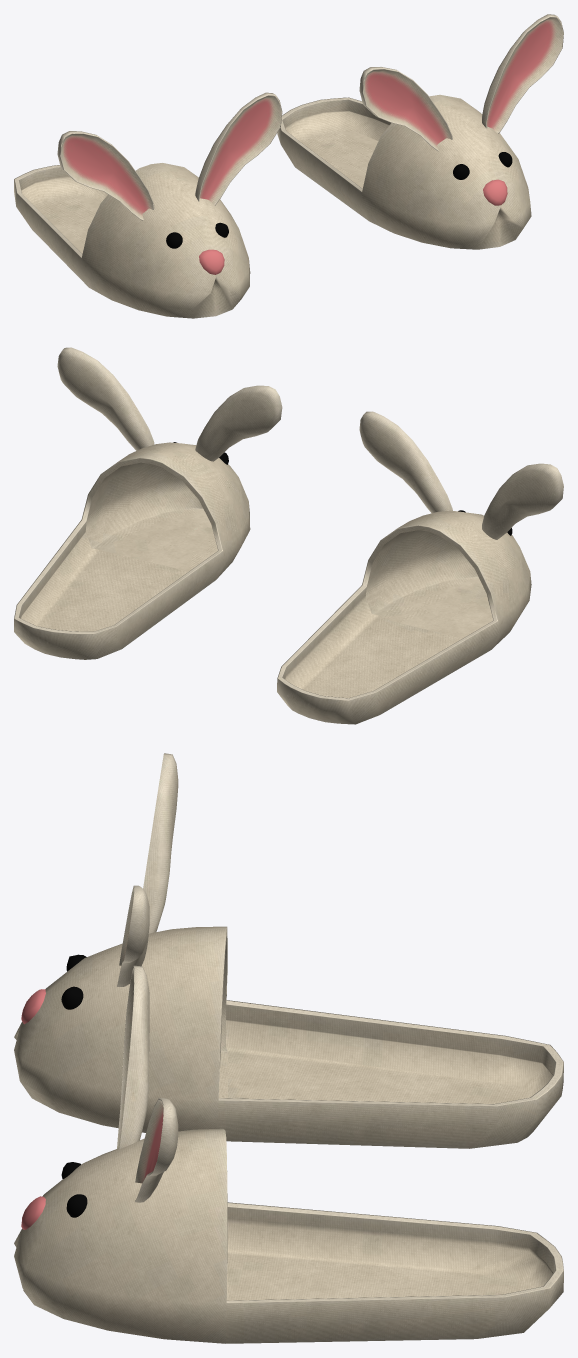
Rendered from Bunny.glb.
3 renders of one model, top to bottom at view 1: azimuth 30°, elevation 25°; view 2: azimuth 150°, elevation 25°; view 3: azimuth 270°, elevation 25°, orthographic. The views are drawn at different scales.
Parts seen in each view (by area): view 1: Bunny; view 2: Bunny; view 3: Bunny.
Boxes of the visible parts, box(x1,y1,x2,y2) form: Bunny: box(14, 14, 563, 318); Bunny: box(14, 347, 563, 724); Bunny: box(14, 753, 563, 1343).
Bounding box in the file's own units: 1.19 × 0.4293 × 0.7561.
1 material, 1 textured.
